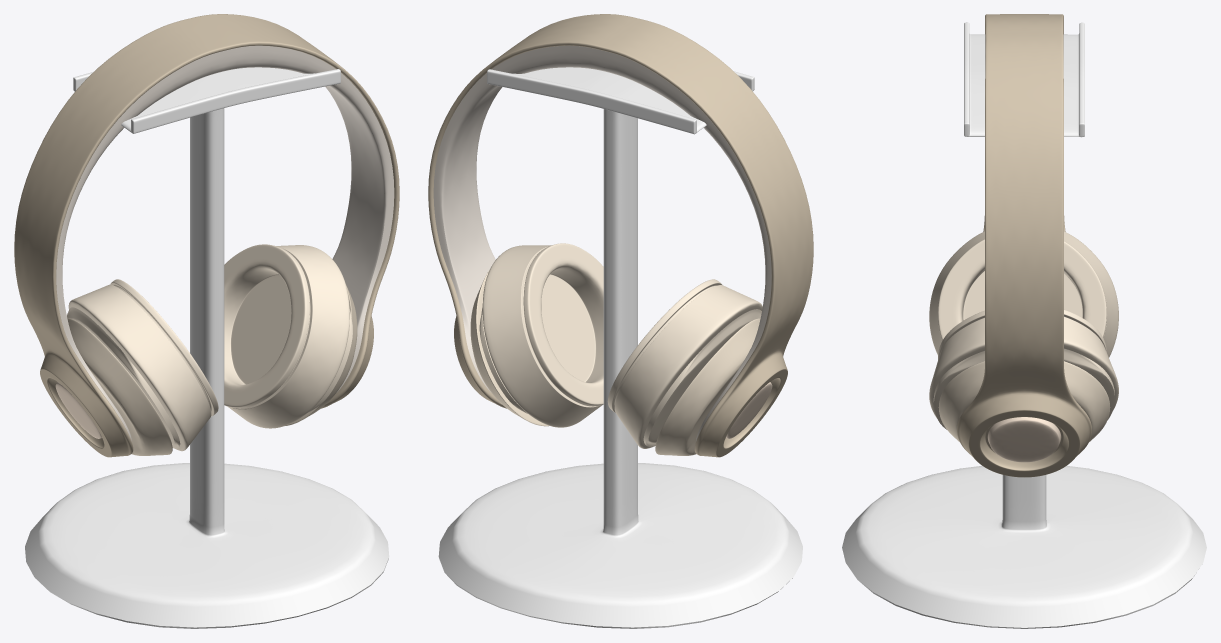
The model's file is earphone-1952.glb.
The picture shows the model from 3 angles, left to right: view 1: azimuth 30°, elevation 25°; view 2: azimuth 150°, elevation 25°; view 3: azimuth 270°, elevation 25°; orthographic projection.
Parts seen in each view (by area): view 1: 耳机支架, 海绵, 耳机本体-外壳, 耳机本体-白外壳, 耳机本体-海绵连接外壳, 耳机本体-浅色外壳; view 2: 耳机支架, 海绵, 耳机本体-外壳, 耳机本体-白外壳, 耳机本体-海绵连接外壳, 耳机本体-浅色外壳; view 3: 耳机支架, 耳机本体-外壳, 海绵, 耳机本体-海绵连接外壳, 耳机本体-浅色外壳.
Part boxes in pixels (x1,y1,x2,y2): 耳机支架: (25,67,389,628); 海绵: (67,244,352,451); 耳机本体-外壳: (14,14,399,457); 耳机本体-白外壳: (56,45,394,441); 耳机本体-海绵连接外壳: (67,285,357,455); 耳机本体-浅色外壳: (55,382,101,438); 耳机支架: (438,67,802,628); 海绵: (479,243,762,448); 耳机本体-外壳: (428,14,813,457); 耳机本体-白外壳: (433,45,771,441); 耳机本体-海绵连接外壳: (470,270,760,455); 耳机本体-浅色外壳: (726,382,772,438); 耳机支架: (842,22,1206,628); 耳机本体-外壳: (957,14,1091,477); 海绵: (929,231,1118,429); 耳机本体-海绵连接外壳: (938,361,1110,441); 耳机本体-浅色外壳: (987,417,1061,462).
Bounding box in the file's own units: 0.00785 × 0.0113 × 0.00714.
